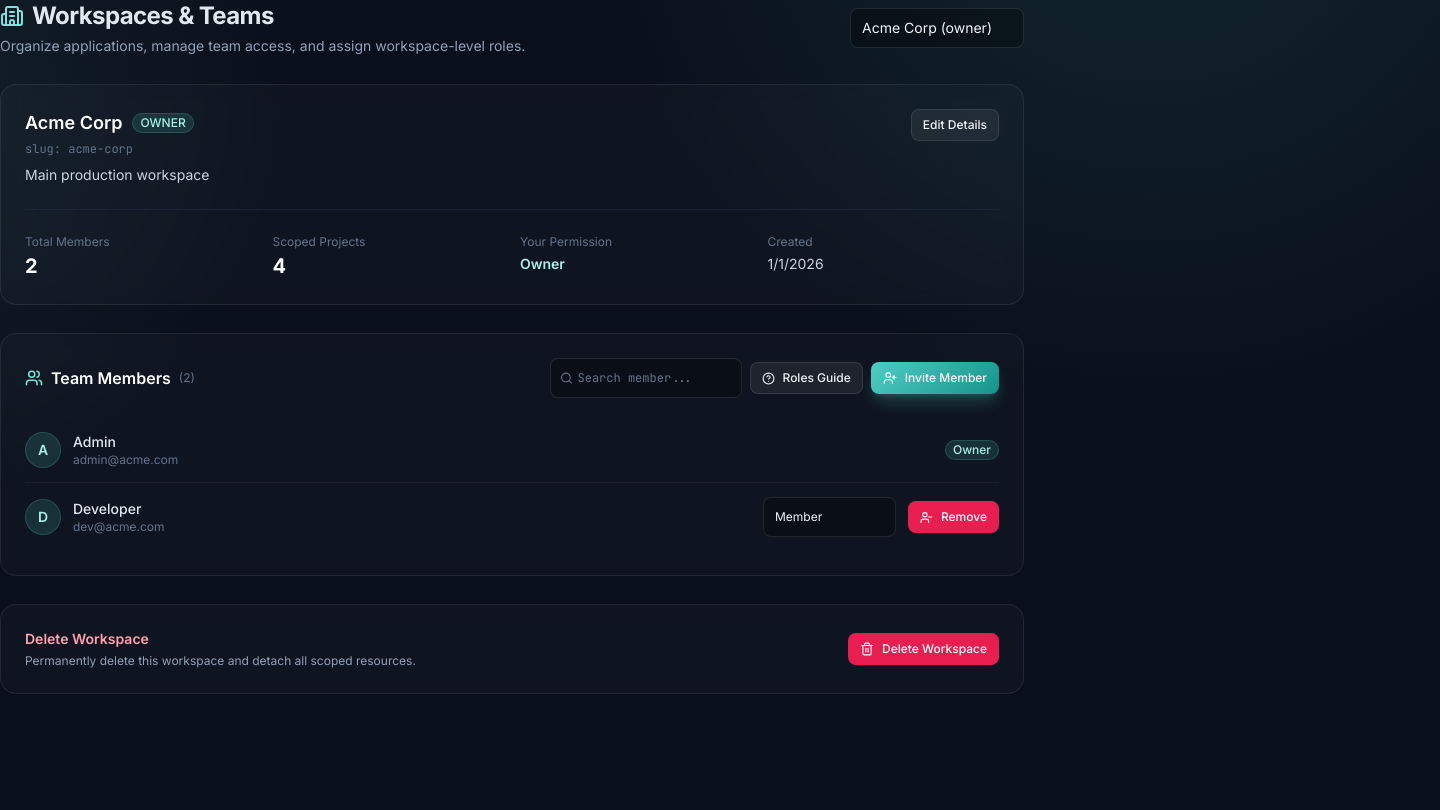
Test: Workspaces route › reports invite failures inline
Expected: the text "Invite Member" is shown, [905, 370, 987, 386]
Click the button "Invite Member": click(935, 378) [871, 362, 999, 394]
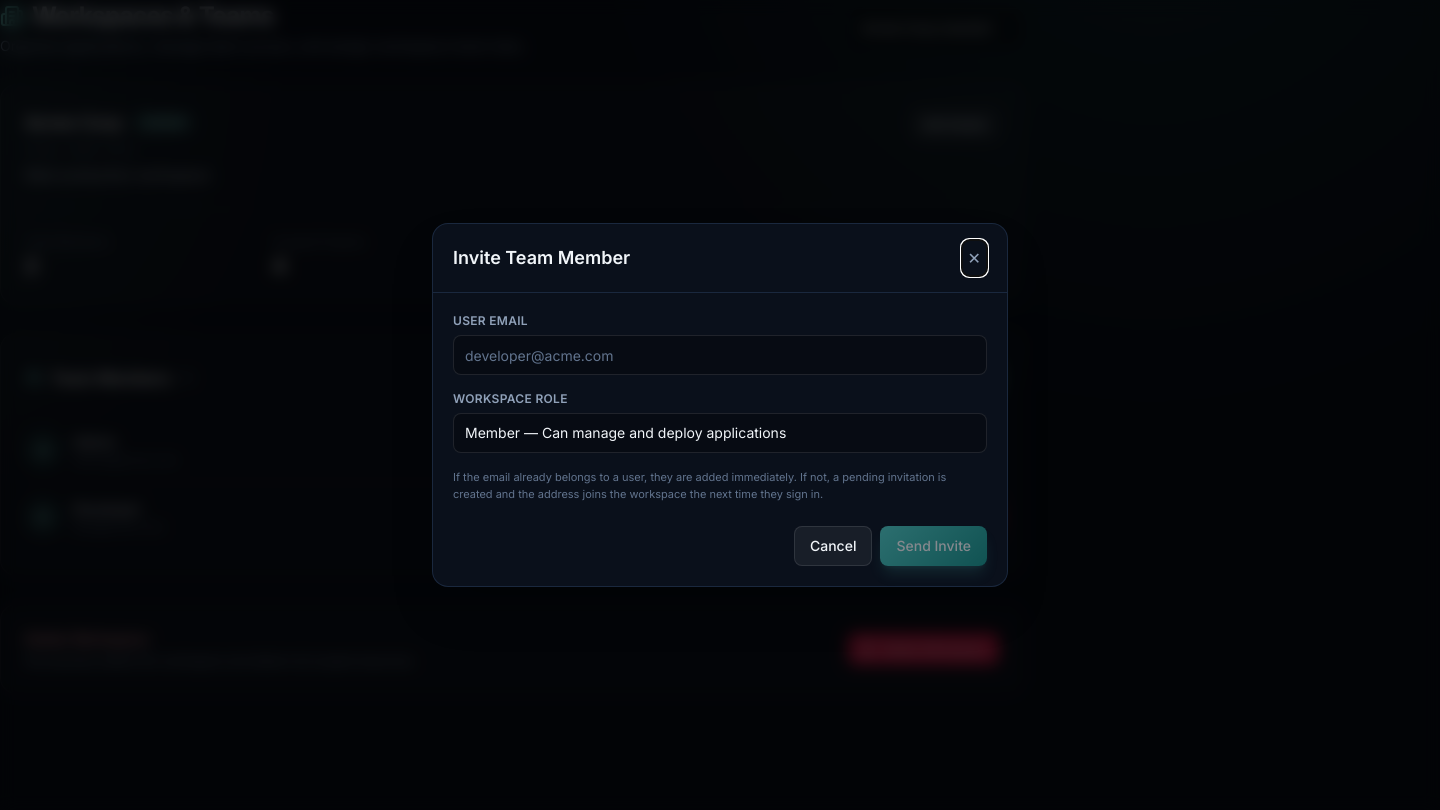
In the field with placeholder "developer@acme.com": (720, 355) [453, 335, 987, 375], type "dev@acme.com"
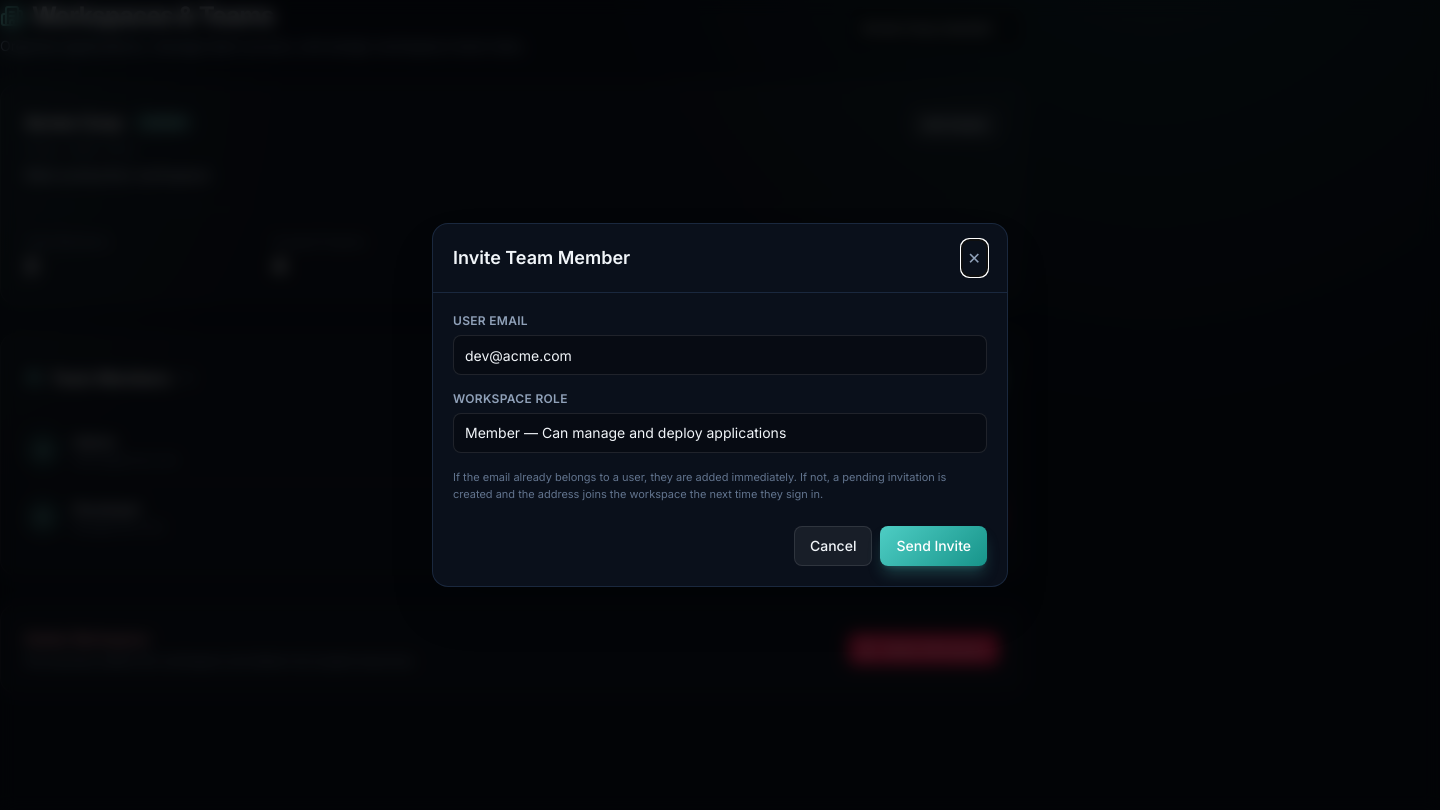
Click the button "Send Invite": click(934, 546) [880, 526, 987, 566]
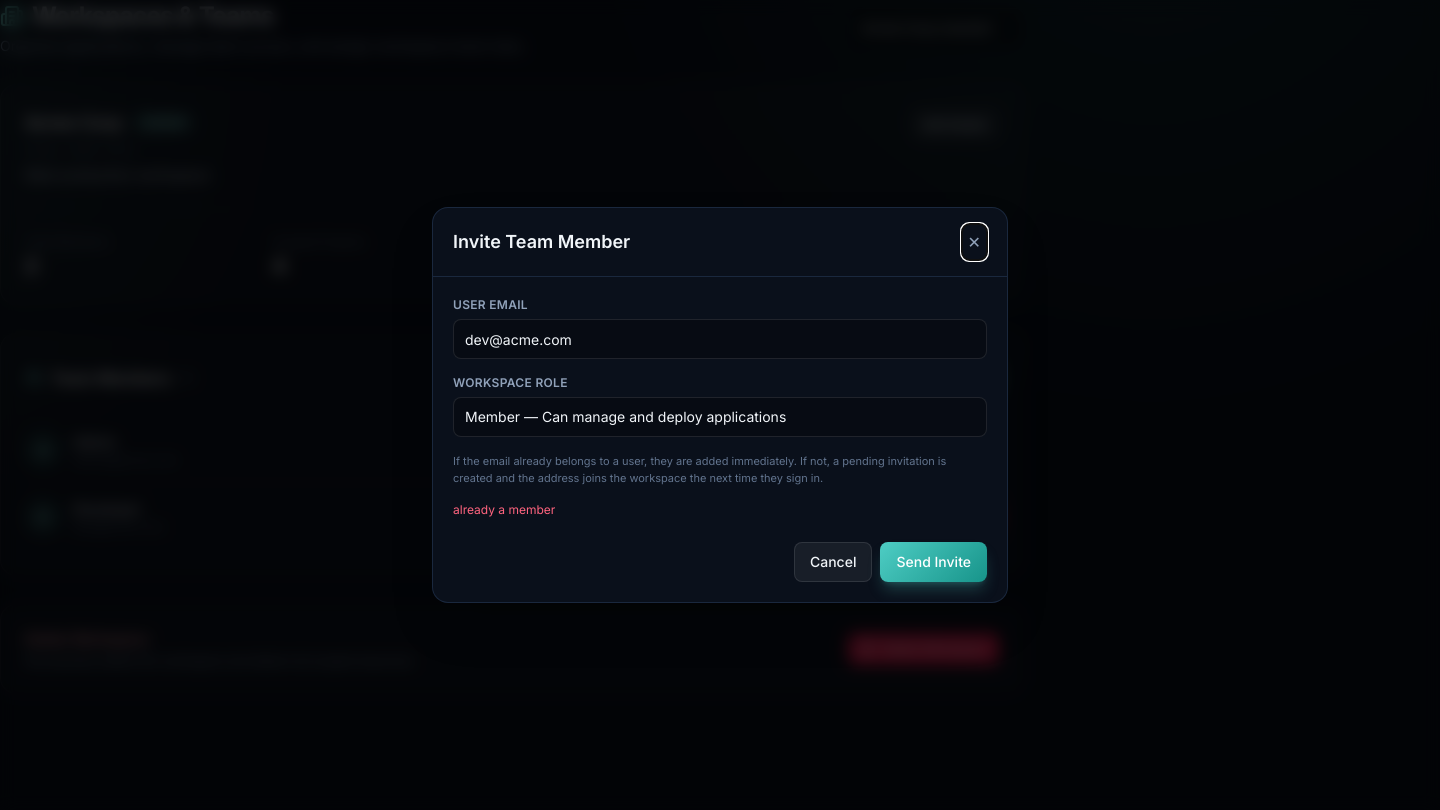
Result: the text "already a member" is shown at [453, 502, 555, 517]
